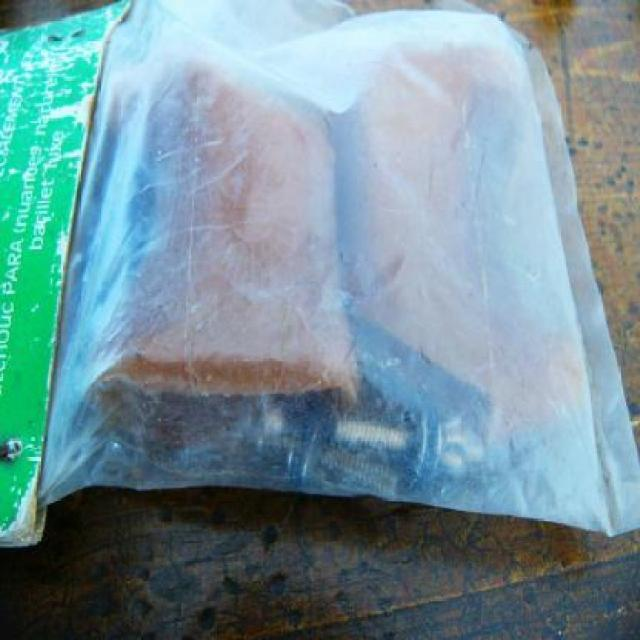plastic bag: (34, 0, 638, 534)
